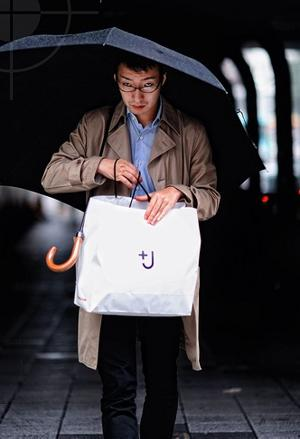person: (42, 50, 221, 439)
